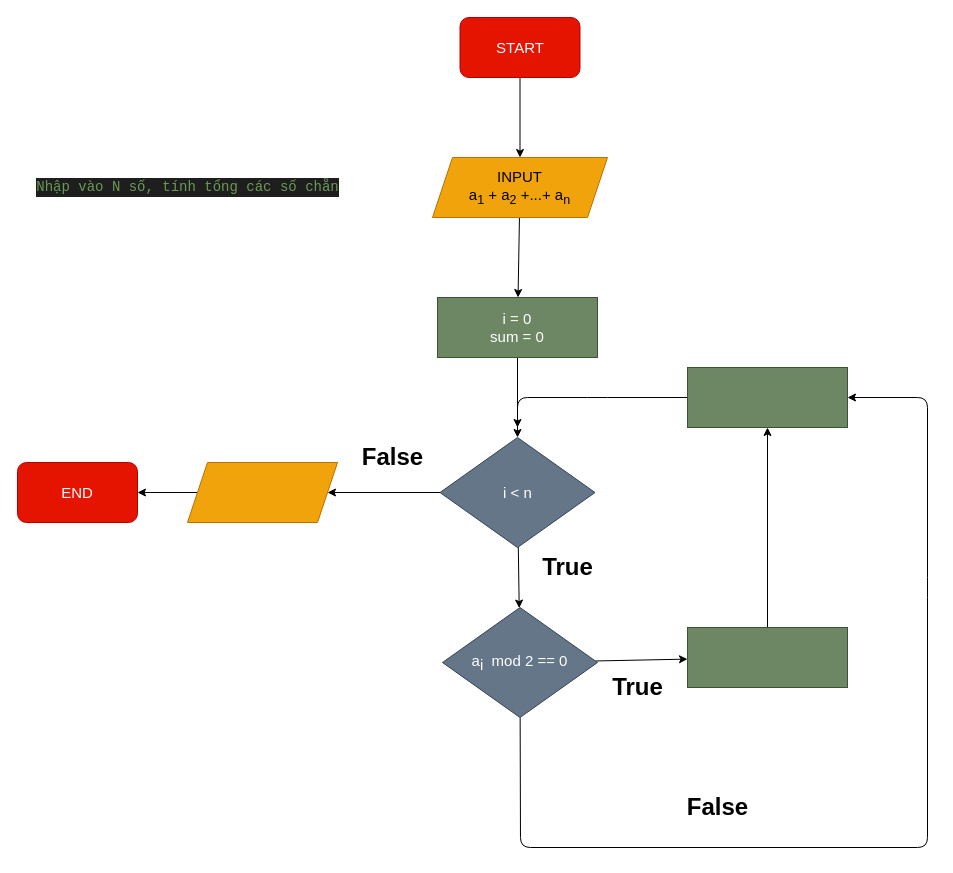
Some shapes in this 953 by 873 pixel diagram are drawn without their labels. Here are the shapes that lost their labels. From the top down, the box of each, then its label:
(686, 366, 848, 428): i = i + 1
(186, 462, 338, 522): Display = Sum
(686, 626, 848, 688): sum = sum + a i
